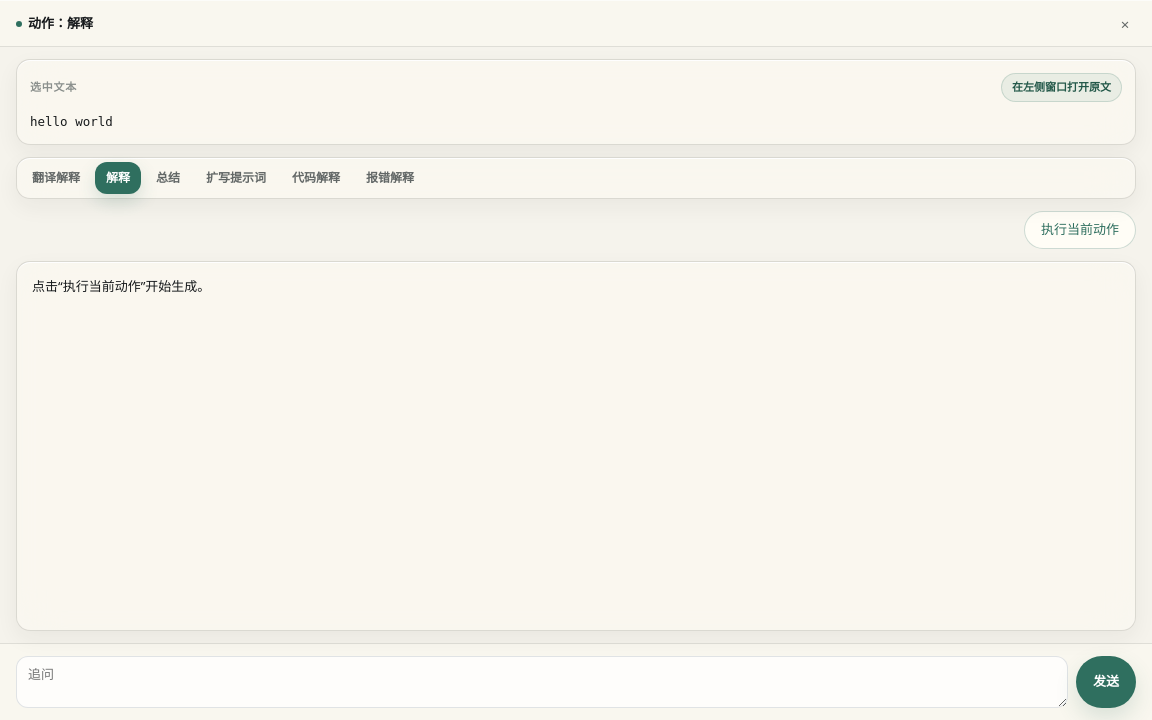
Scenario: AiPanel Tauri event lifecycle › shows stream errors for the active request and stops loading
Click the button "执行当前动作".
click(1080, 230)  # box x1=1024 y1=211 x2=1136 y2=249
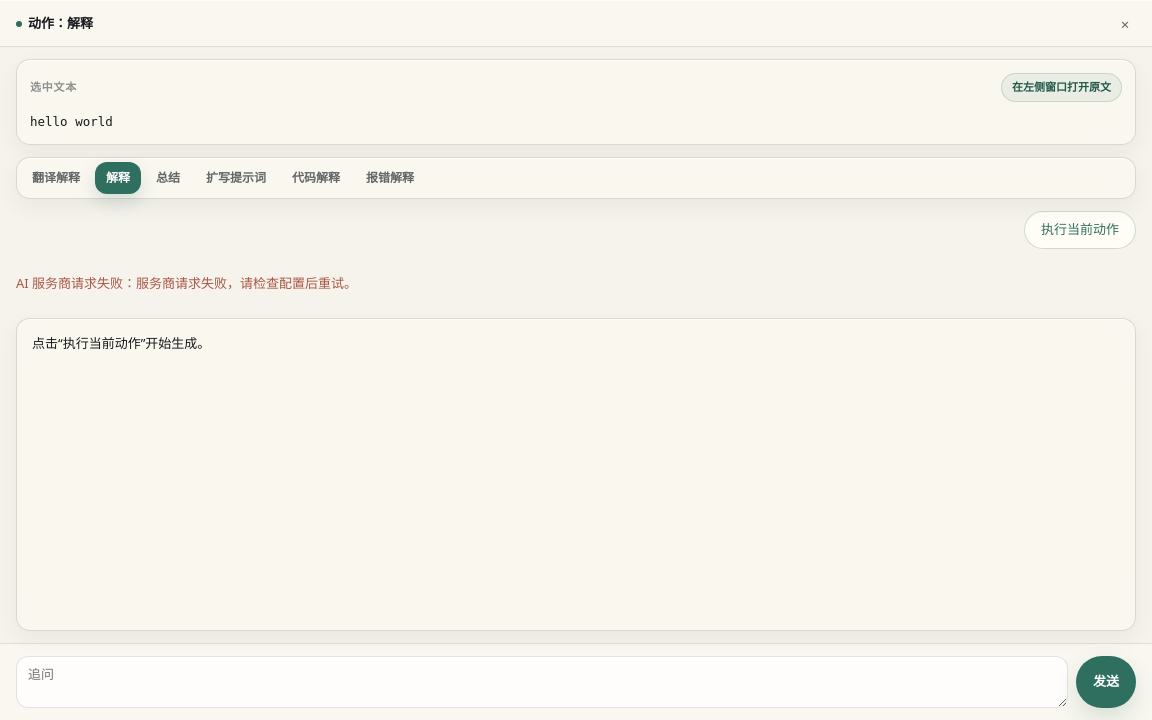
expect the text "生成中" is shown: met, box x1=16 y1=318 x2=1136 y2=631
expect the message reads "AI 服务商请求失败：服务商请求失败，请检查配置后重试。": met, box x1=16 y1=274 x2=357 y2=292
